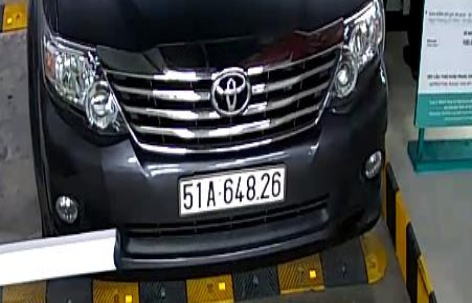plate: (169, 164, 296, 216)
